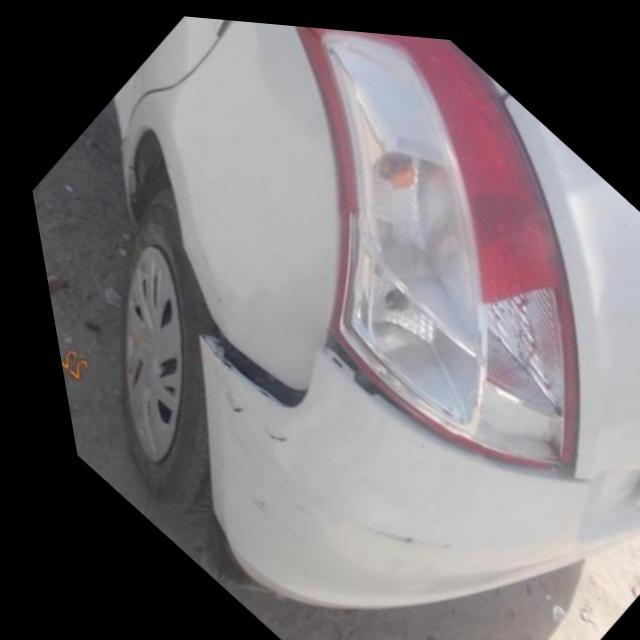crack: (189, 317, 294, 403)
dislocated part: (305, 328, 404, 415)
